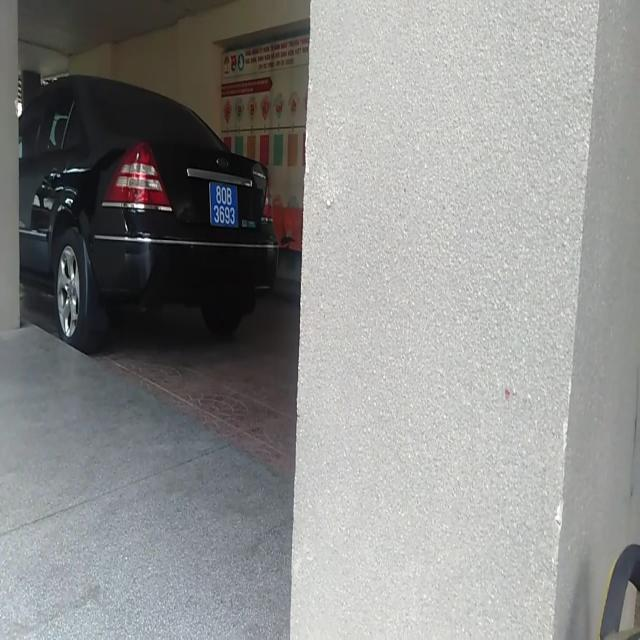bien_xanh: (203, 171, 241, 234)
